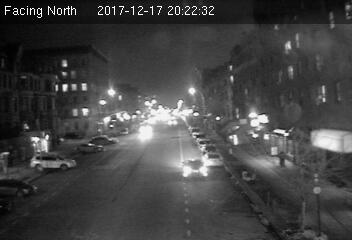car: (180, 159, 209, 180), (203, 150, 222, 167)
